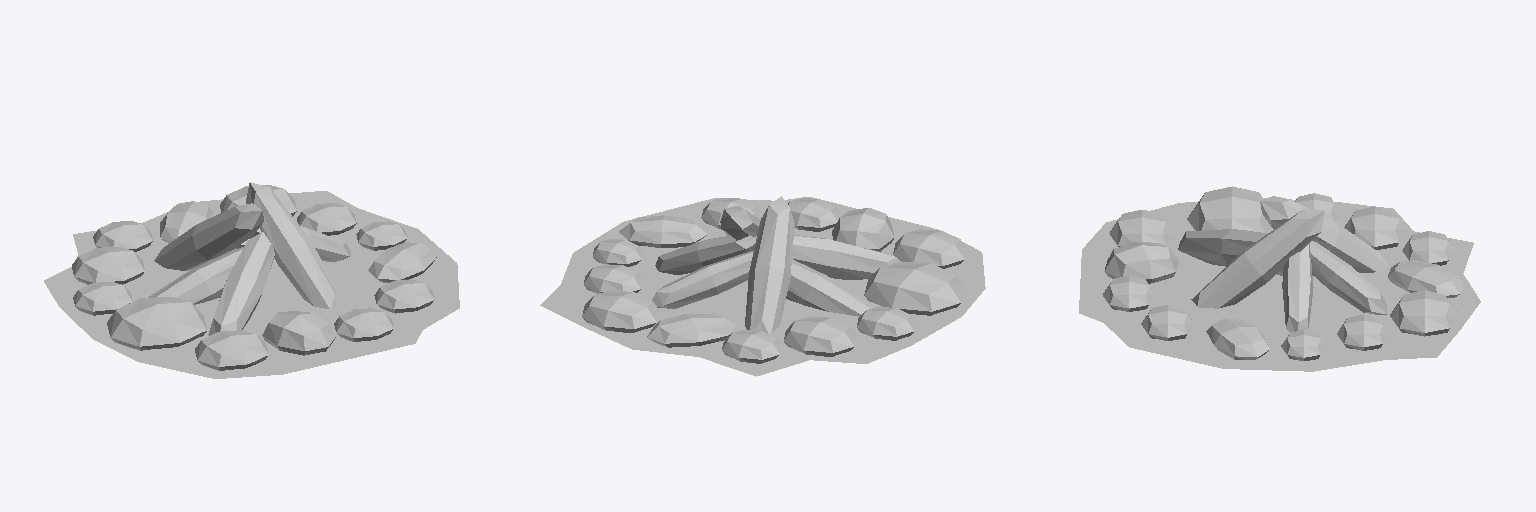
Rendered from Campfire.obj.
3 renders of one model, left to right at view 1: azimuth 30°, elevation 25°; view 2: azimuth 150°, elevation 25°; view 3: azimuth 270°, elevation 25°, orthographic.
Visible parts, largest first — view 1: Campfire_Plane, Groud_Plane.001; view 2: Campfire_Plane, Groud_Plane.001; view 3: Campfire_Plane, Groud_Plane.001.
Part boxes in pixels (bbox=[...]): Campfire_Plane: bbox=[72, 182, 436, 370]; Groud_Plane.001: bbox=[44, 191, 459, 378]; Campfire_Plane: bbox=[582, 196, 966, 363]; Groud_Plane.001: bbox=[540, 197, 985, 376]; Campfire_Plane: bbox=[1103, 186, 1463, 360]; Groud_Plane.001: bbox=[1079, 198, 1480, 371].
Size of the model in its own units: 16.94 by 4.84 by 16.52.